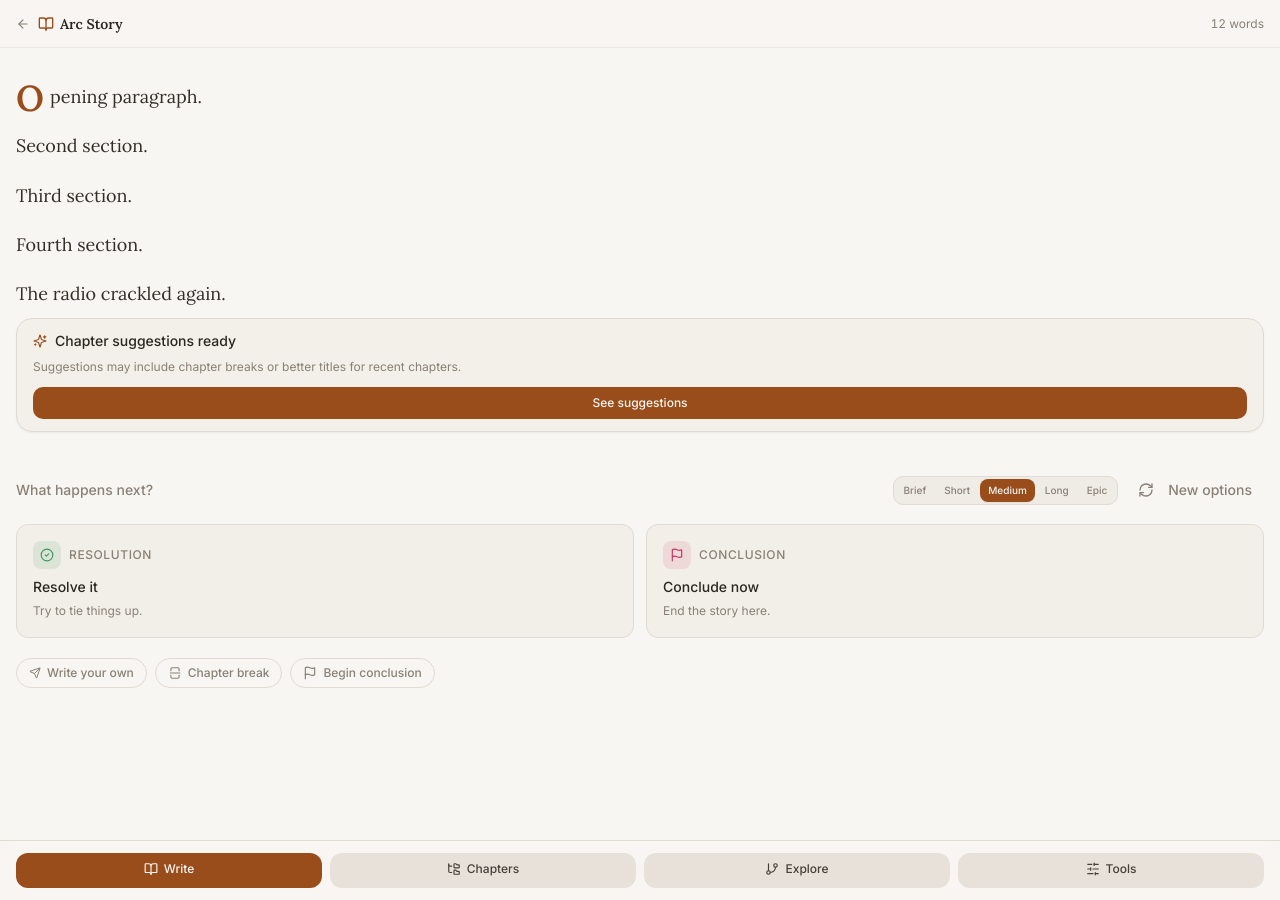
Test: StoryWrite narrative arc integration › labels rename and chapter-break suggestions differently
The image size is (1280, 900).
Step 1. Click the button "See suggestions" → (640, 404), box top-left (33, 388), bottom-right (1247, 420)
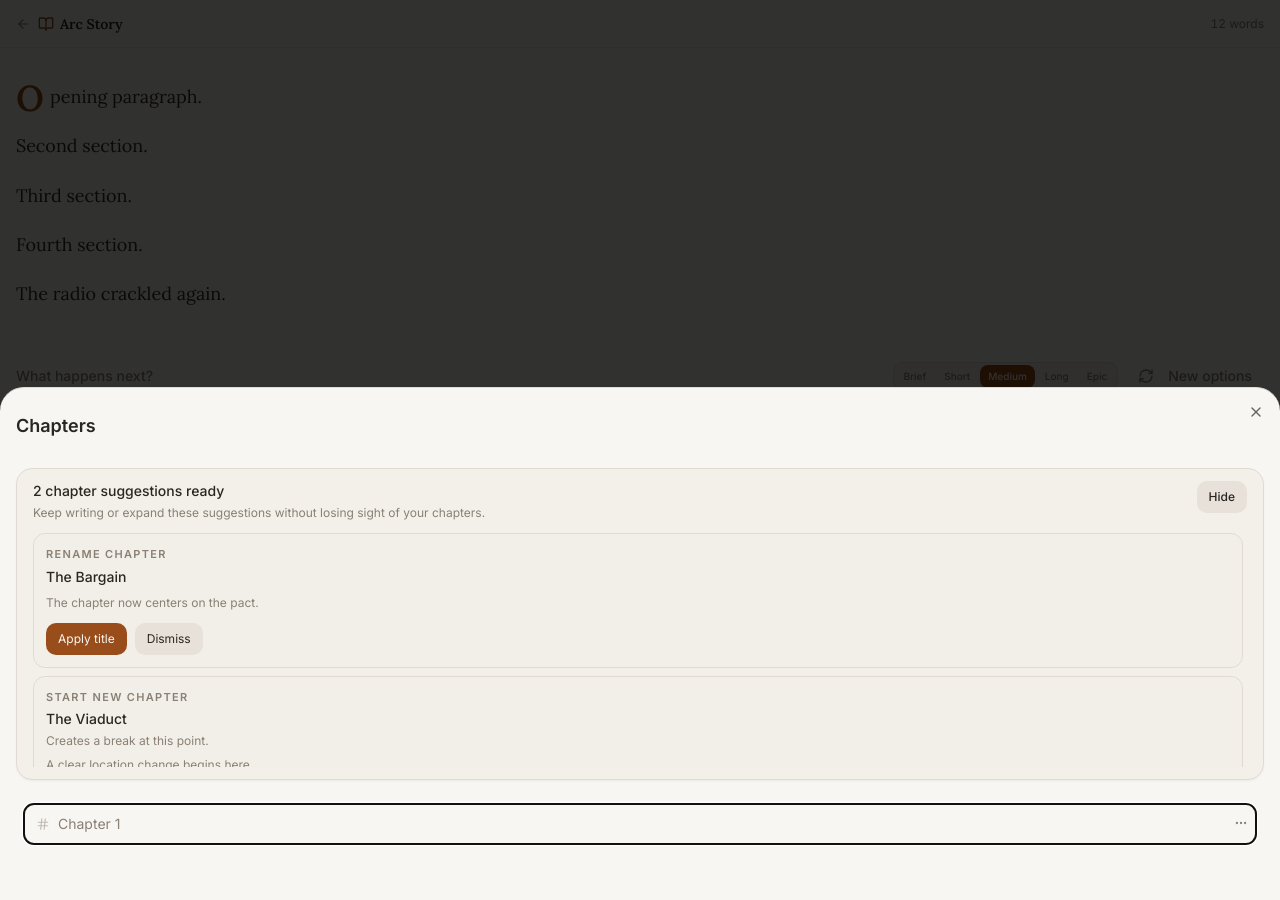
Expected: the text "Rename chapter" is shown, top-left (46, 547), bottom-right (167, 561)
Expected: the text "Start new chapter" is shown, top-left (46, 690), bottom-right (188, 704)
Expected: the button "Apply title" is shown, top-left (46, 622), bottom-right (127, 654)
